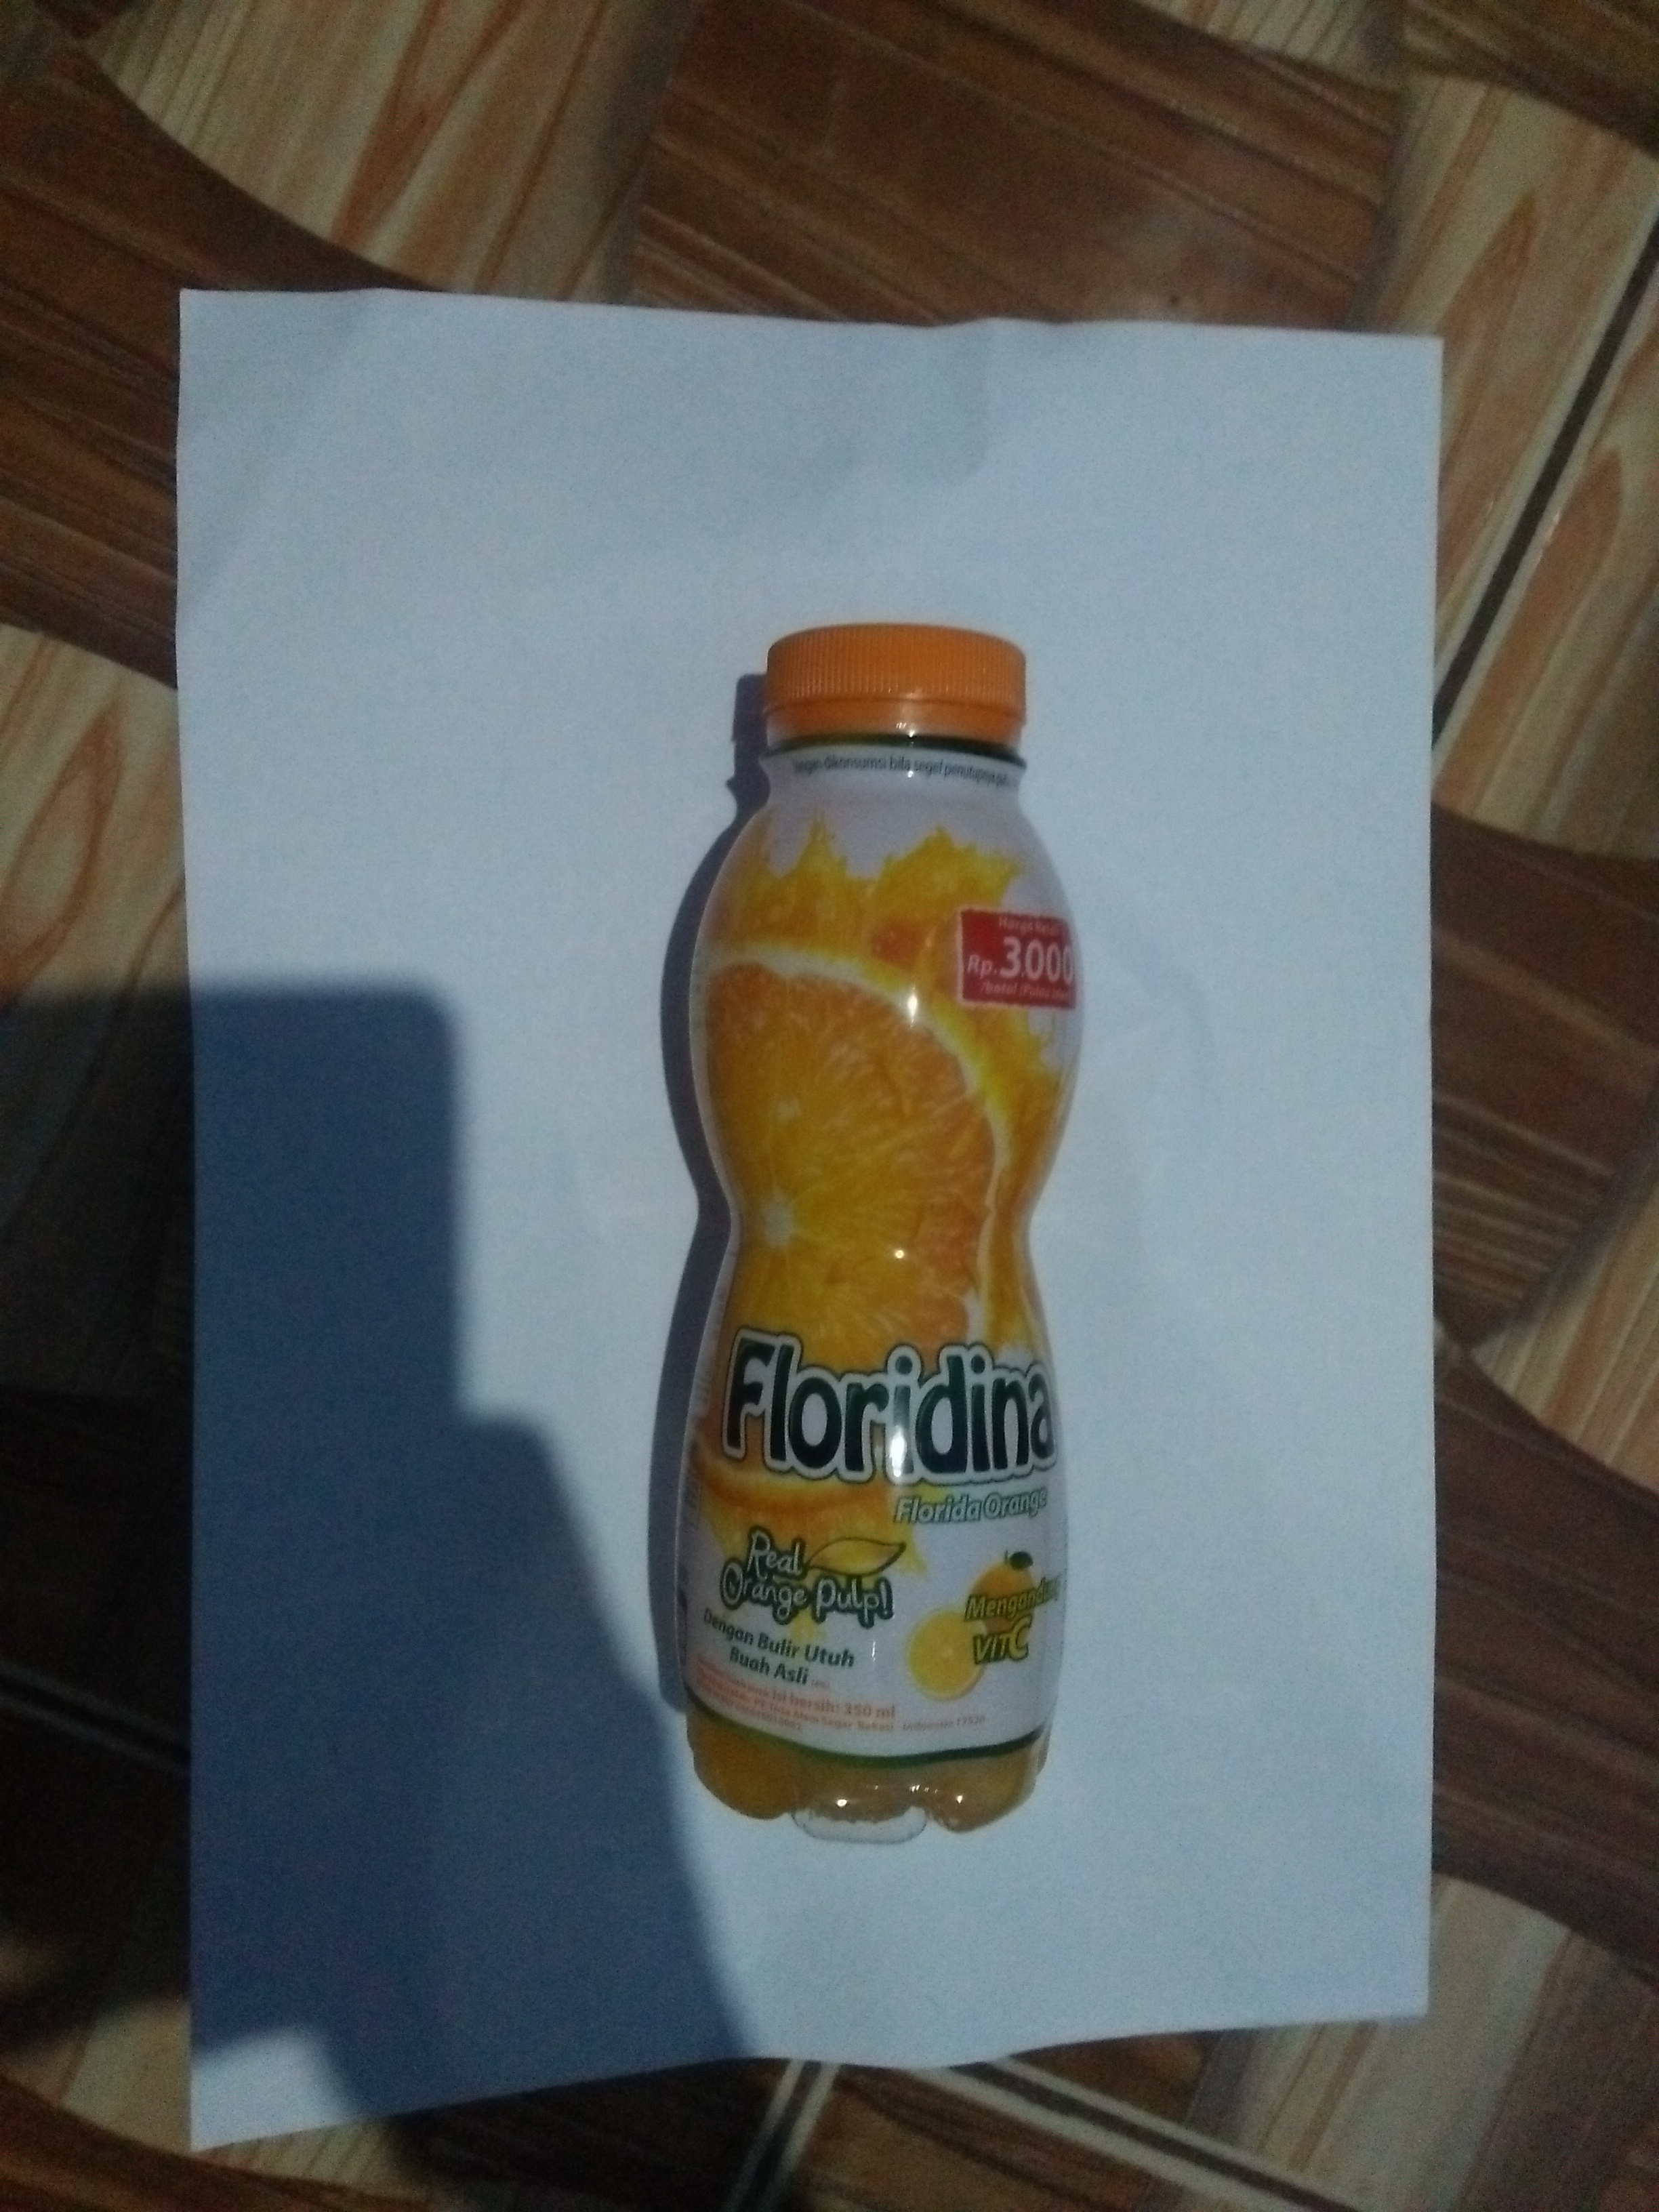Floridina: (666, 611, 1089, 1855)
